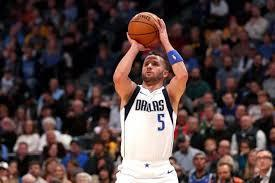ball: (128, 11, 164, 48)
human: (112, 18, 190, 183)
